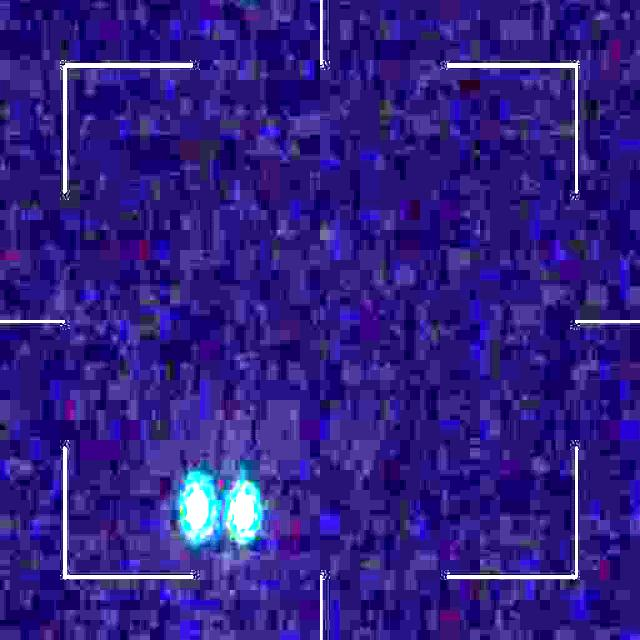bird: (182, 485, 255, 530)
